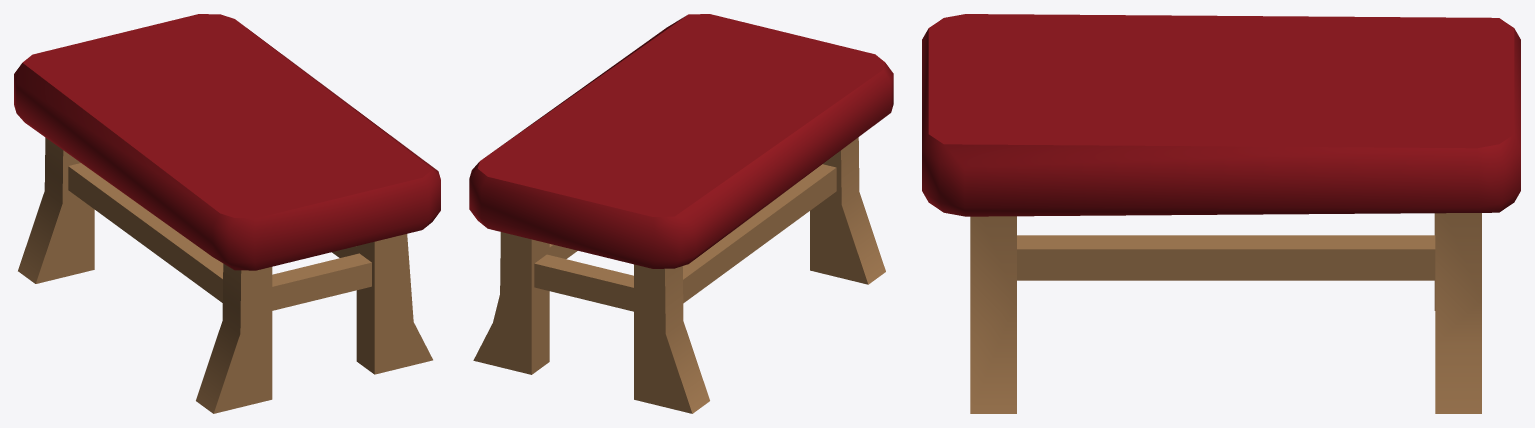
Rendered from cc0-bench-lod1.glb.
3 views of the same model, side by side, from view 1: azimuth 30°, elevation 25°; view 2: azimuth 150°, elevation 25°; view 3: azimuth 270°, elevation 25° (orthographic). The views are drawn at different scales.
Visible parts, largest first — view 1: part_0; view 2: part_0; view 3: part_0.
Boxes of the visible parts, x1,y1,x2,y2 form: part_0: (14,14,440,413); part_0: (469,14,893,413); part_0: (922,14,1520,413).
Bounding box in the file's own units: 0.8757 × 0.7442 × 1.54.
1 material, 1 textured.
